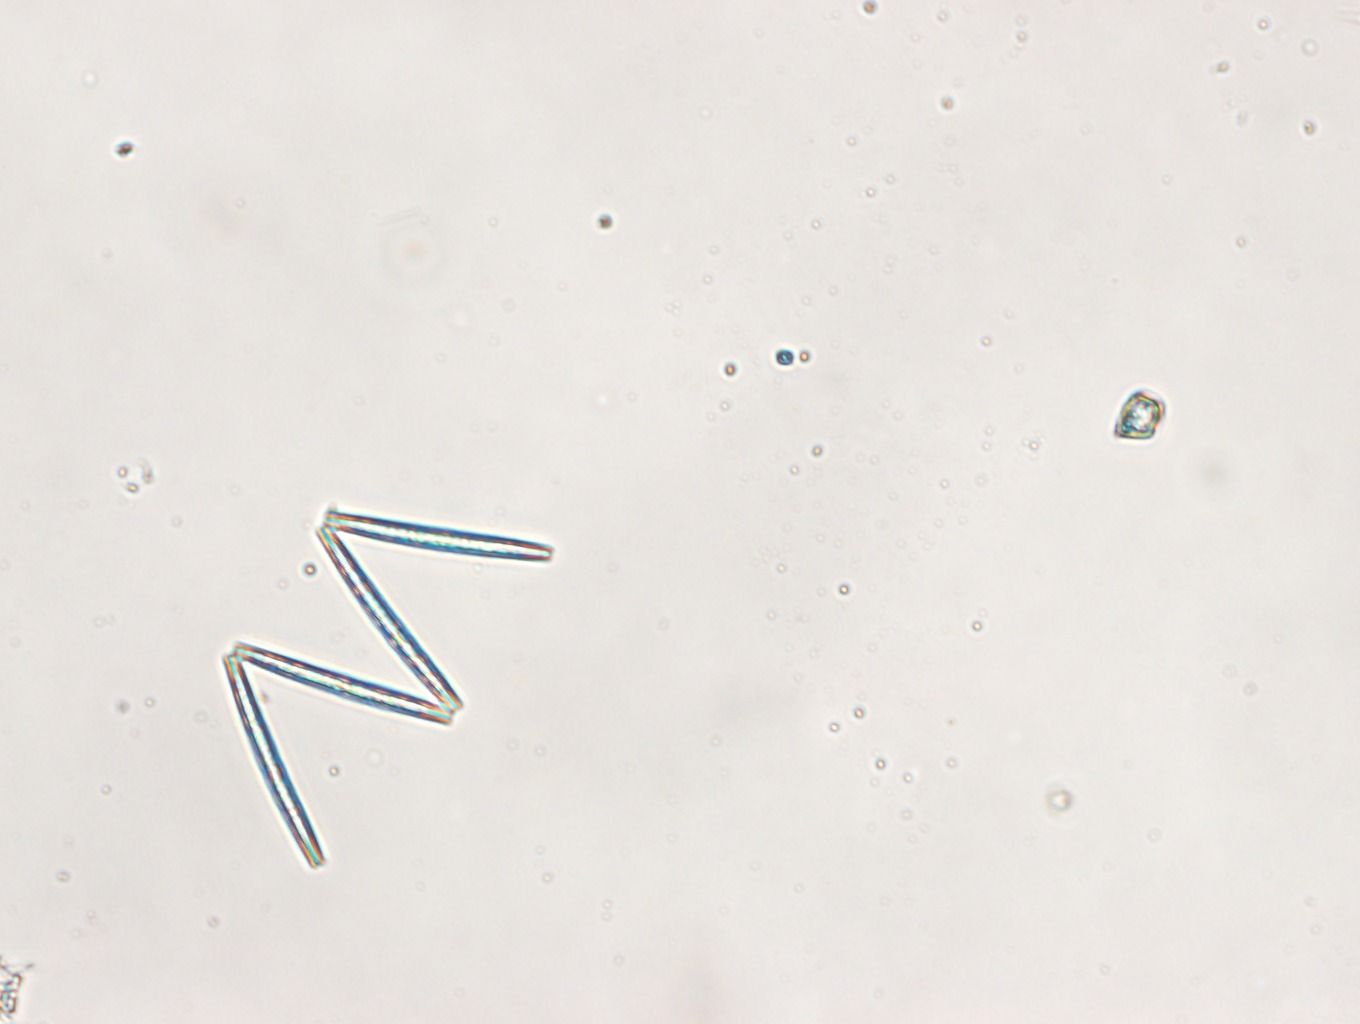thalassionema nitzschioides: (221, 508, 552, 870)
